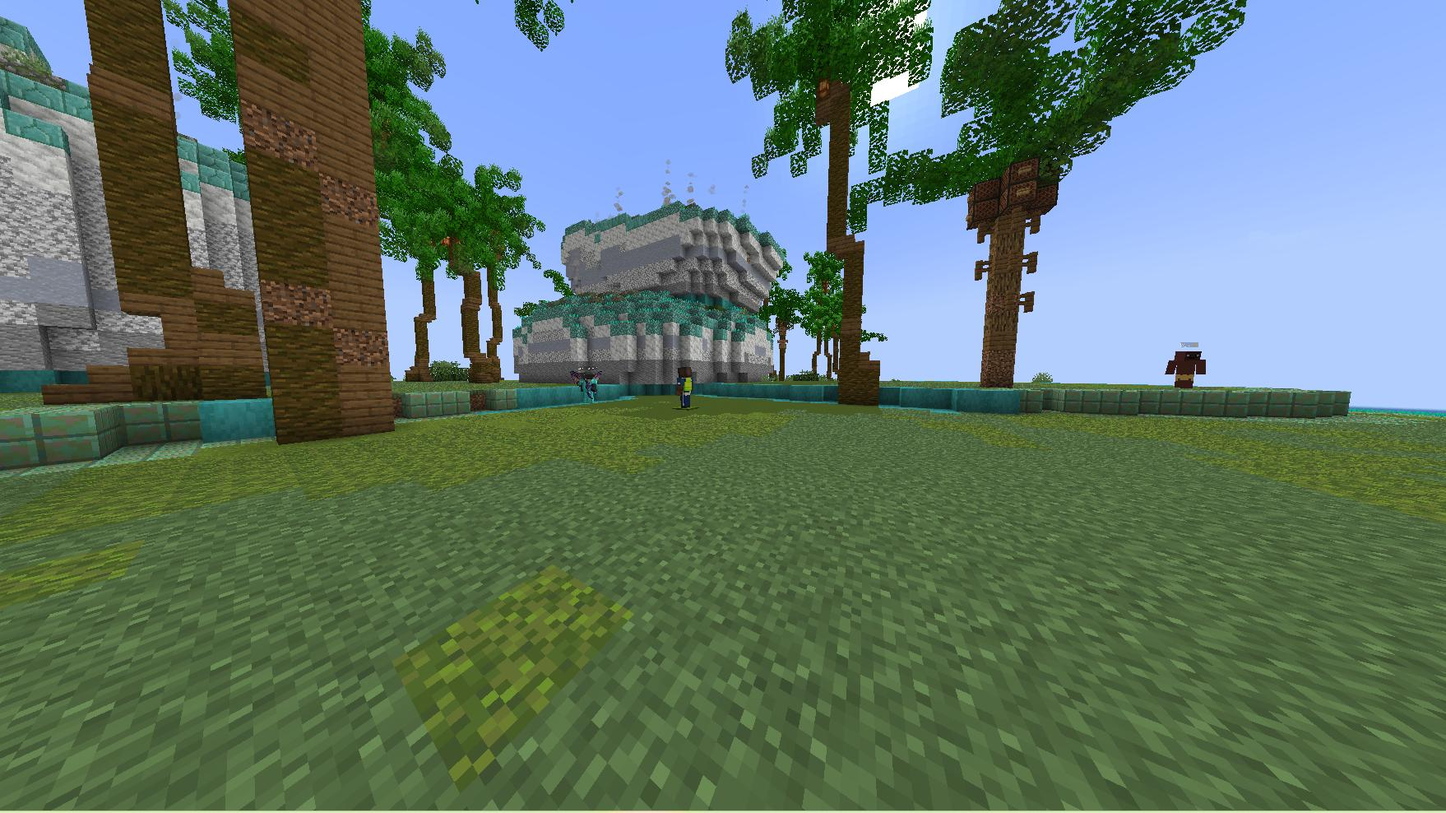Guardian: (677, 365, 694, 409)
